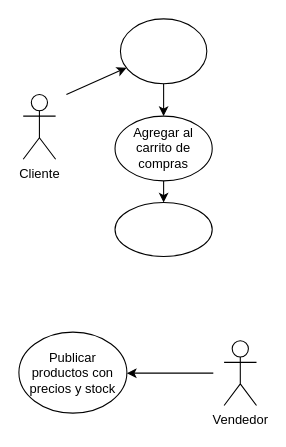
The diagram is 286 pixels wide and 447 high, and some of its shapes have lost their labels. The centre of each missing label's shape, as x and y in pixels:
Realizar el pago: the point at 163,228
Ver productos: the point at 163,51
